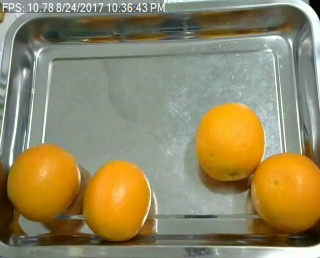Orange: (7, 142, 81, 221), (80, 161, 152, 242), (251, 151, 320, 231), (196, 102, 265, 181)
